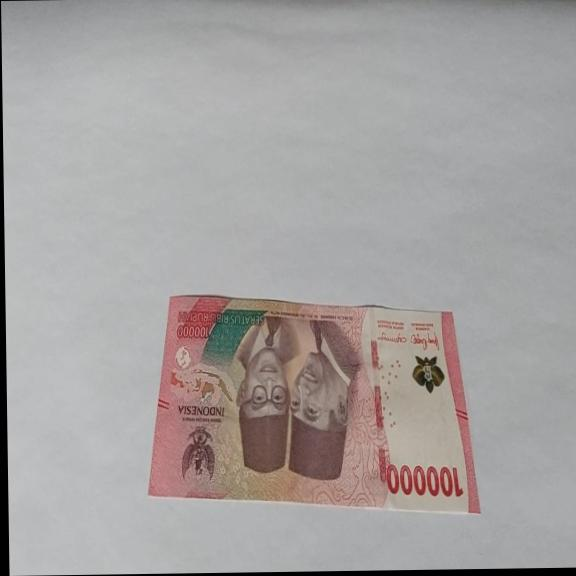Kertas: (143, 289, 481, 520), (384, 461, 464, 500)
